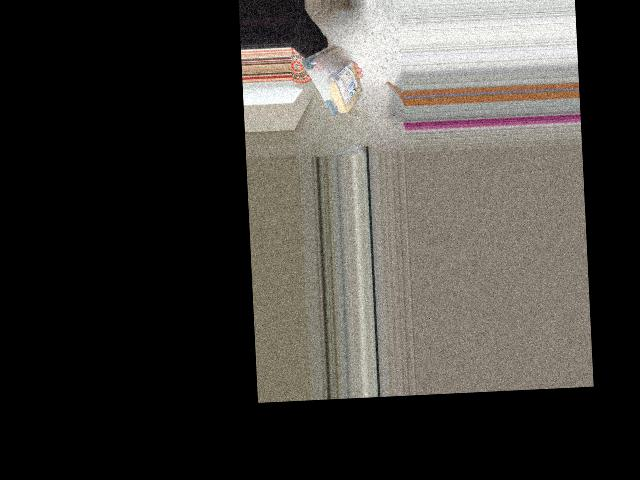cheese: (302, 32, 364, 120)
